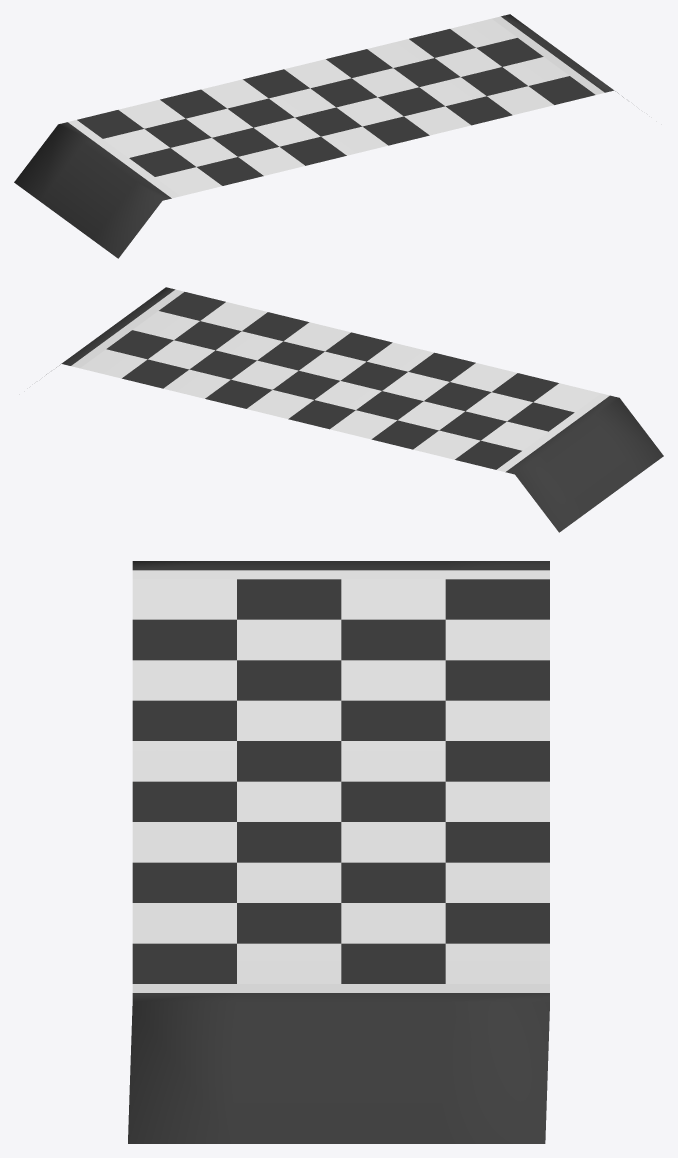
The model's file is StartFinish.obj.
3 views of the same model, one above another, from view 1: azimuth 30°, elevation 25°; view 2: azimuth 150°, elevation 25°; view 3: azimuth 270°, elevation 25° (orthographic). The views are drawn at different scales.
Visible parts, largest first — view 1: Road_5; view 2: Road_5; view 3: Road_5.
Part boxes in pixels (left/top/right/bottom): Road_5: left=14, top=14, right=623, bottom=258; Road_5: left=46, top=287, right=663, bottom=532; Road_5: left=128, top=561, right=549, bottom=1143.
Size of the model in its own units: 12.71 by 1.06 by 4.27.
1 material, 1 textured.
